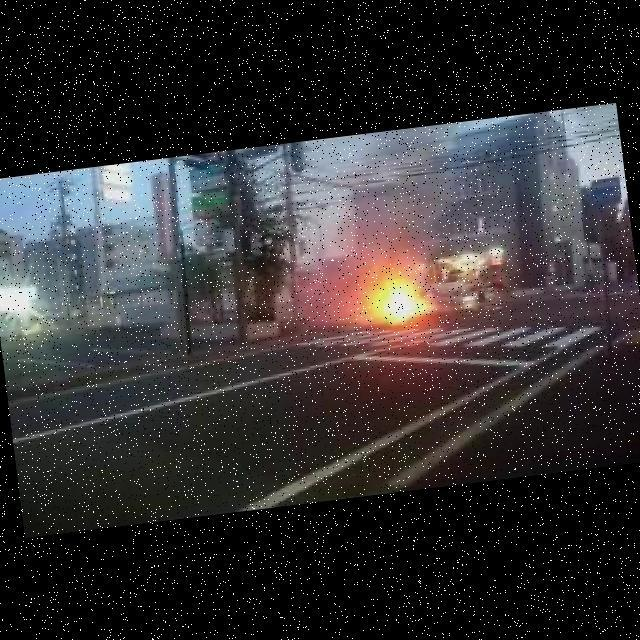Fire: (369, 279, 429, 326)
